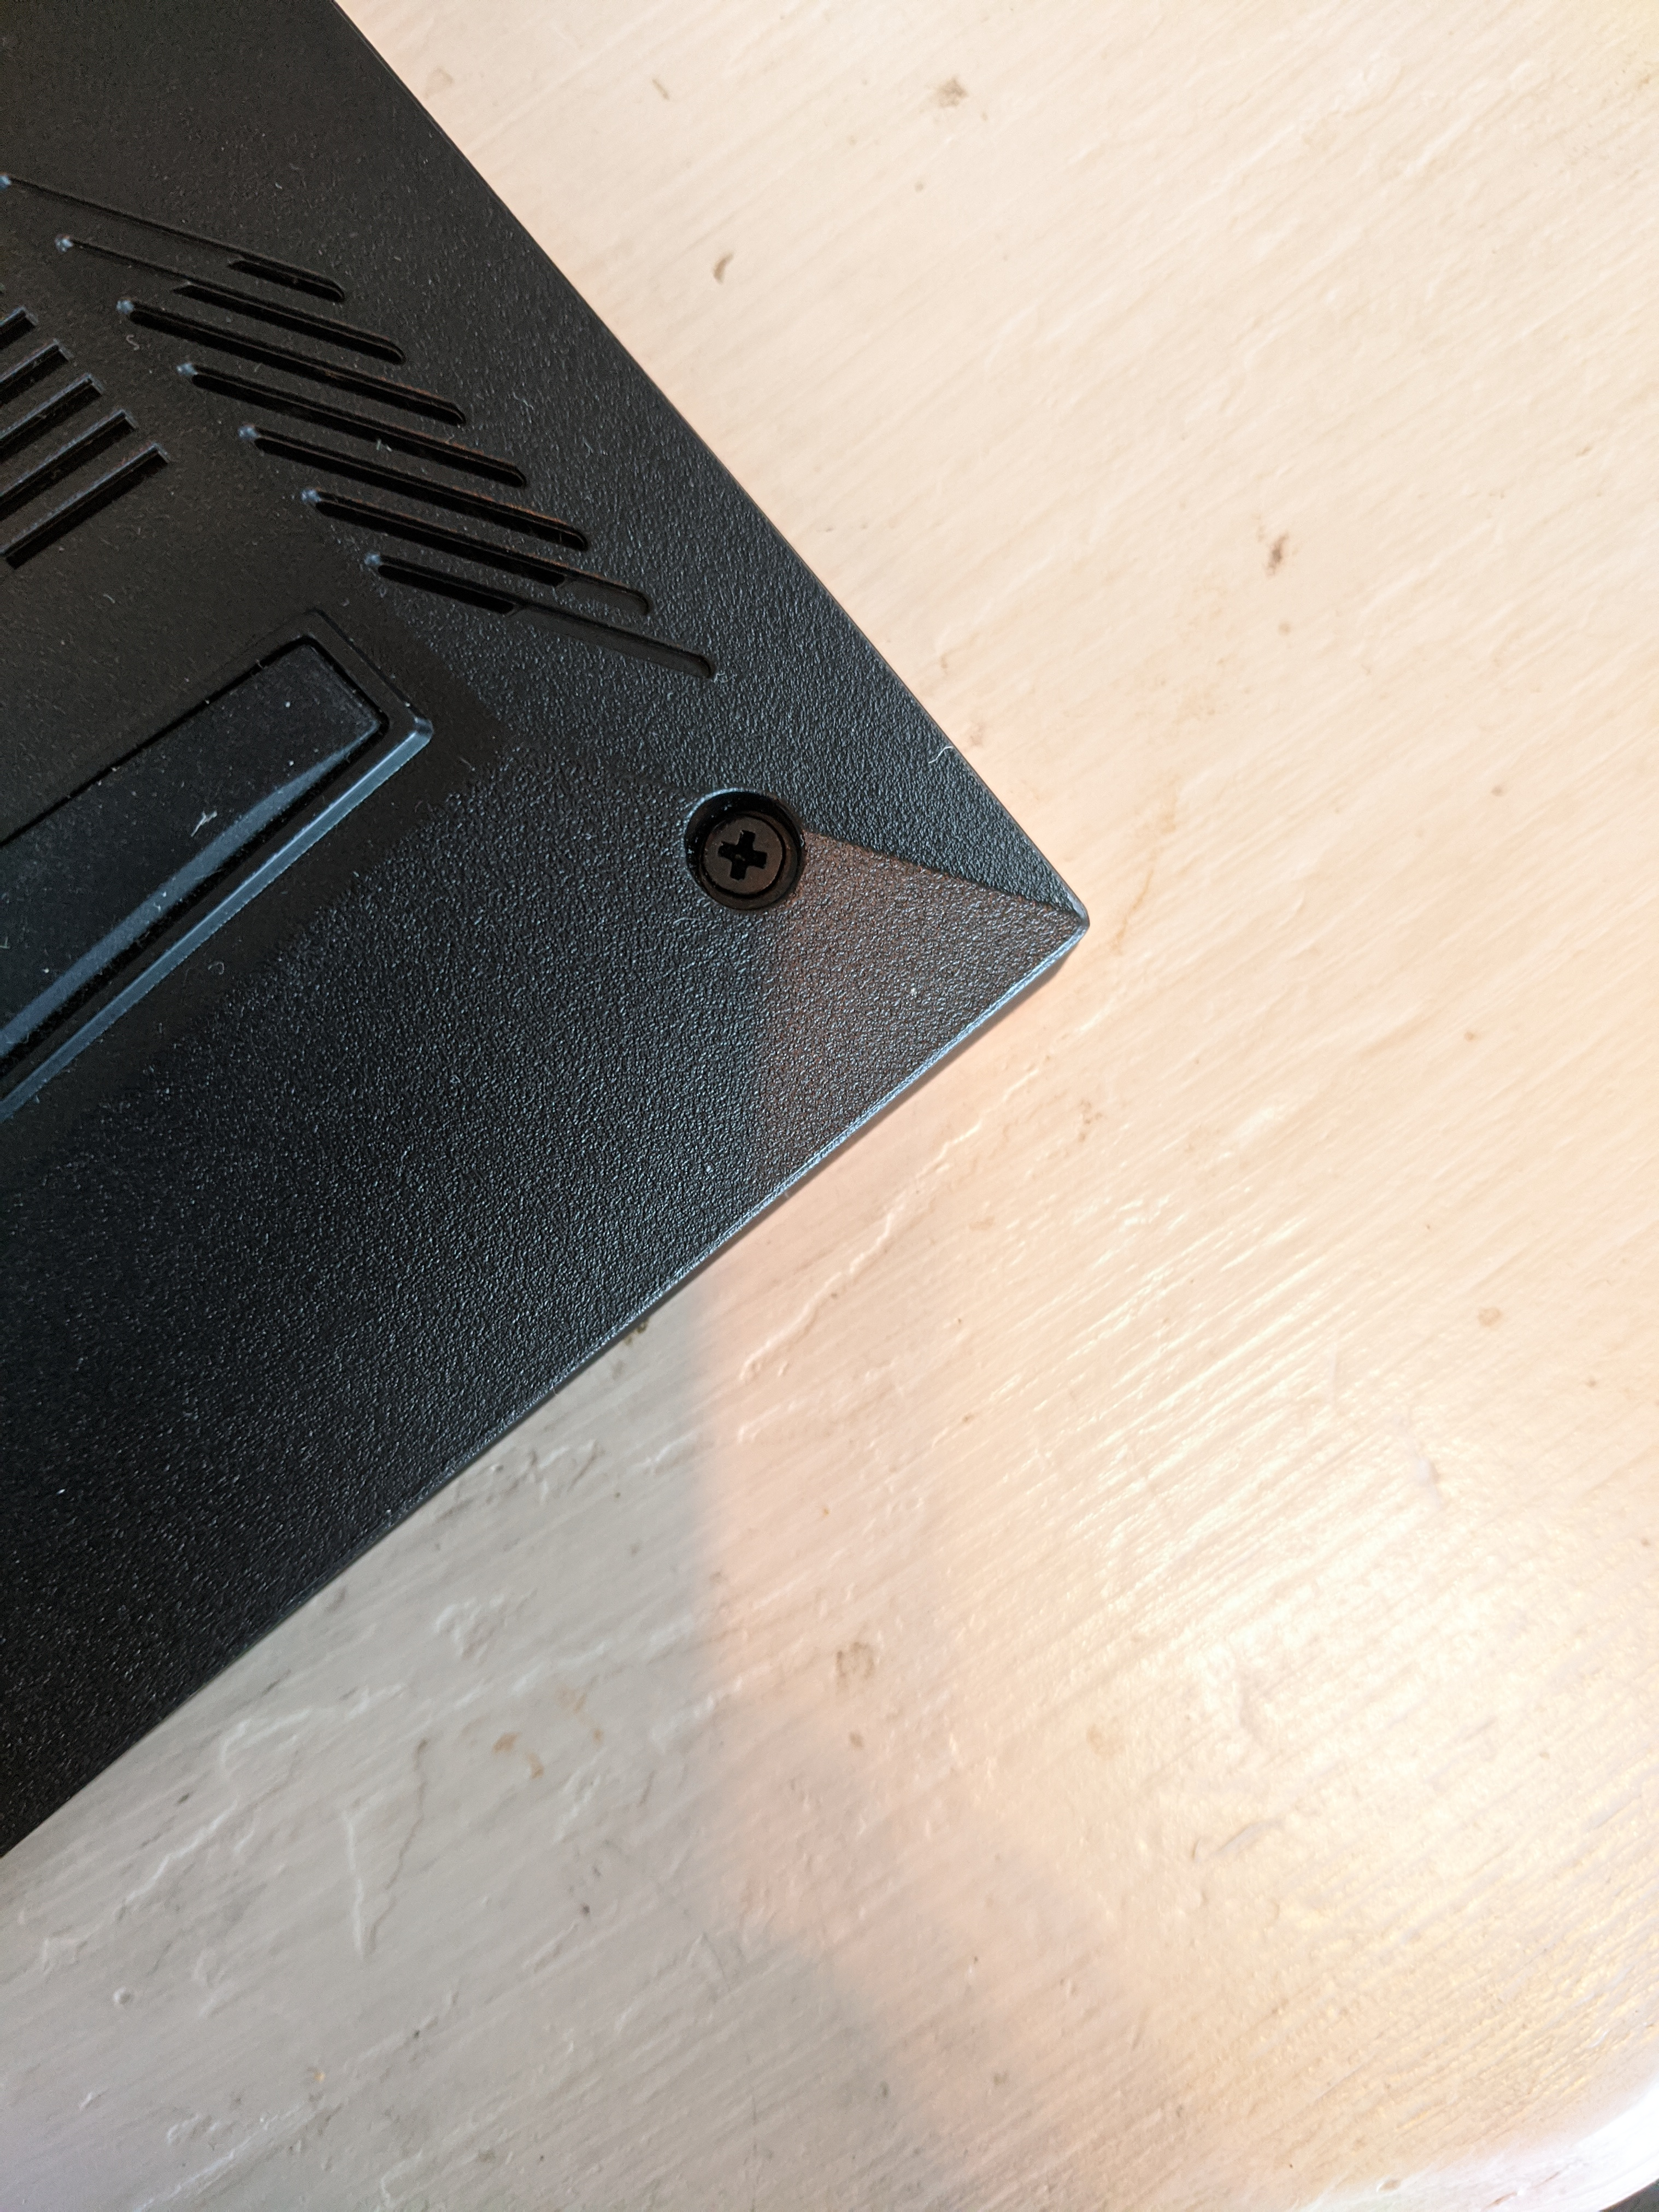cross_recessed_screw: (673, 786, 796, 902)
